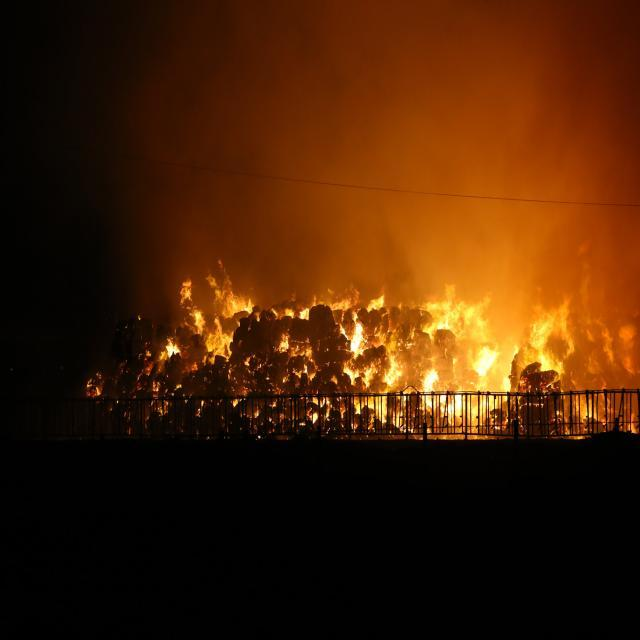Smoke: (547, 251, 640, 438)
